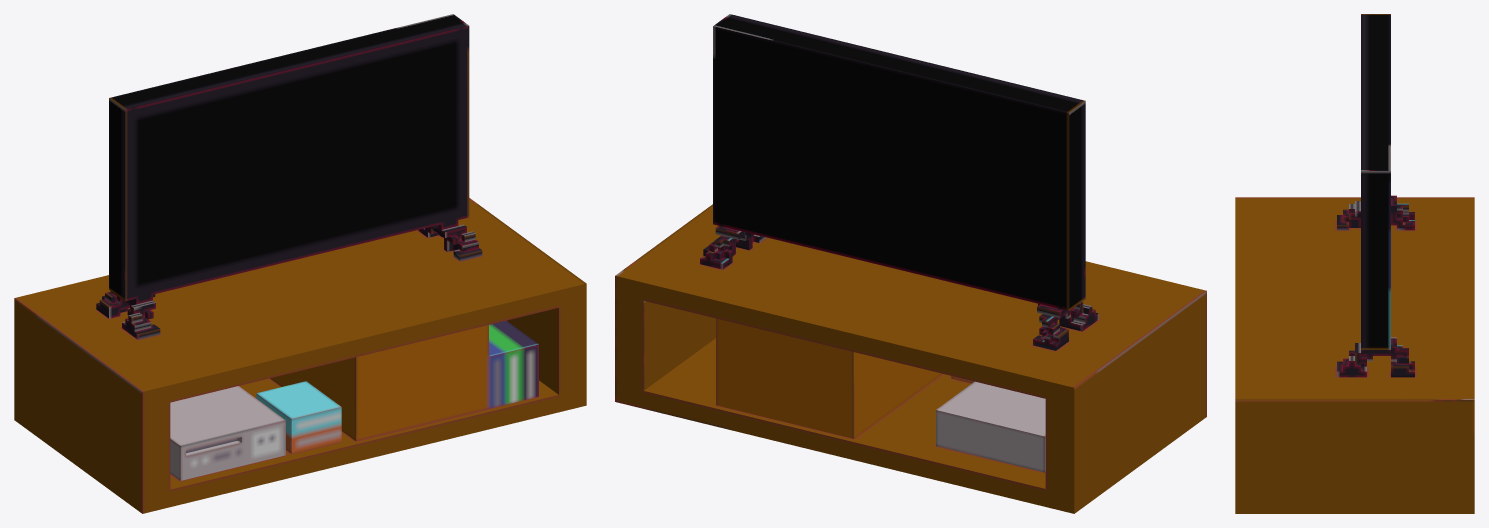
The model's file is Tv-with-meja_4.obj.
3 views of the same model, side by side, from view 1: azimuth 30°, elevation 25°; view 2: azimuth 150°, elevation 25°; view 3: azimuth 270°, elevation 25° (orthographic). The views are drawn at different scales.
Visible parts, largest first — view 1: Tv-with-meja_4; view 2: Tv-with-meja_4; view 3: Tv-with-meja_4.
Part boxes in pixels (x1,y1,x2,y2): Tv-with-meja_4: (14,14,586,513); Tv-with-meja_4: (615,14,1206,513); Tv-with-meja_4: (1235,14,1474,513).
Bounding box in the file's own units: 8 × 5.9 × 4.
Materials: 1 (1 with a texture image).
